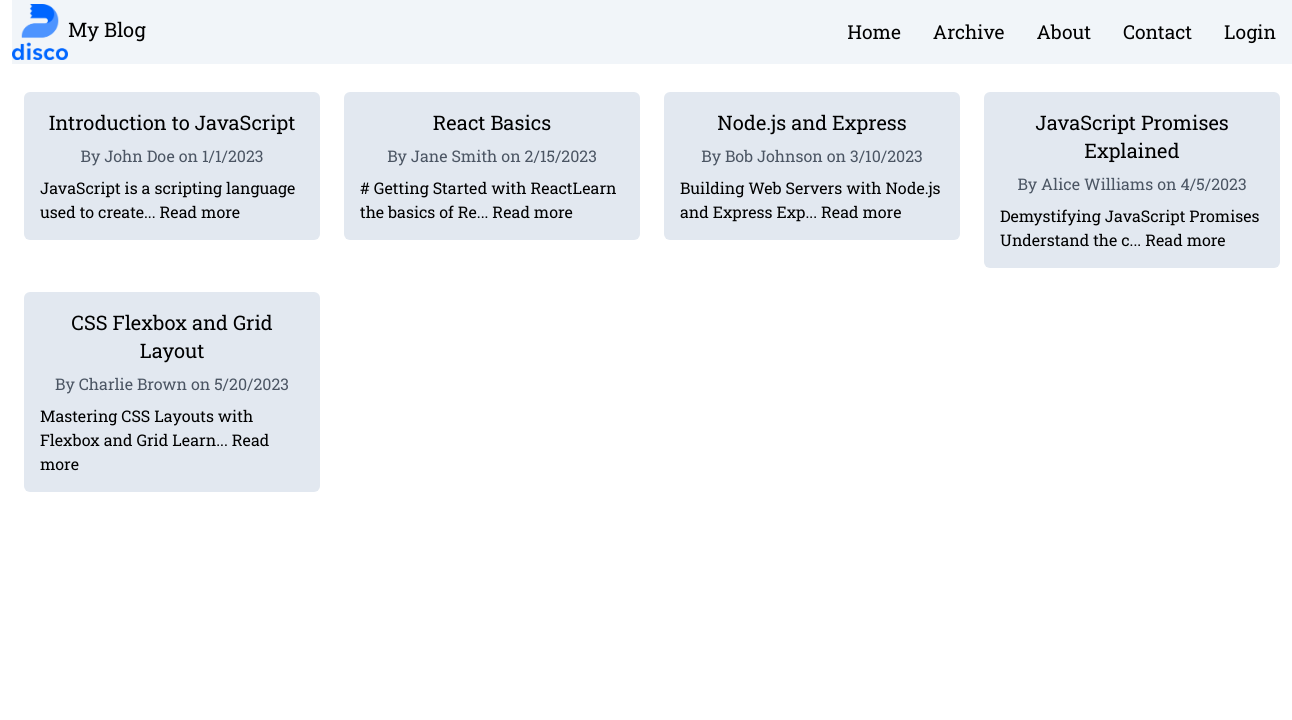
it: BlogDetails Component › loads and displays first blog details
Click the link with id "blogNumber-1" at (172, 180), box [24, 92, 320, 268]
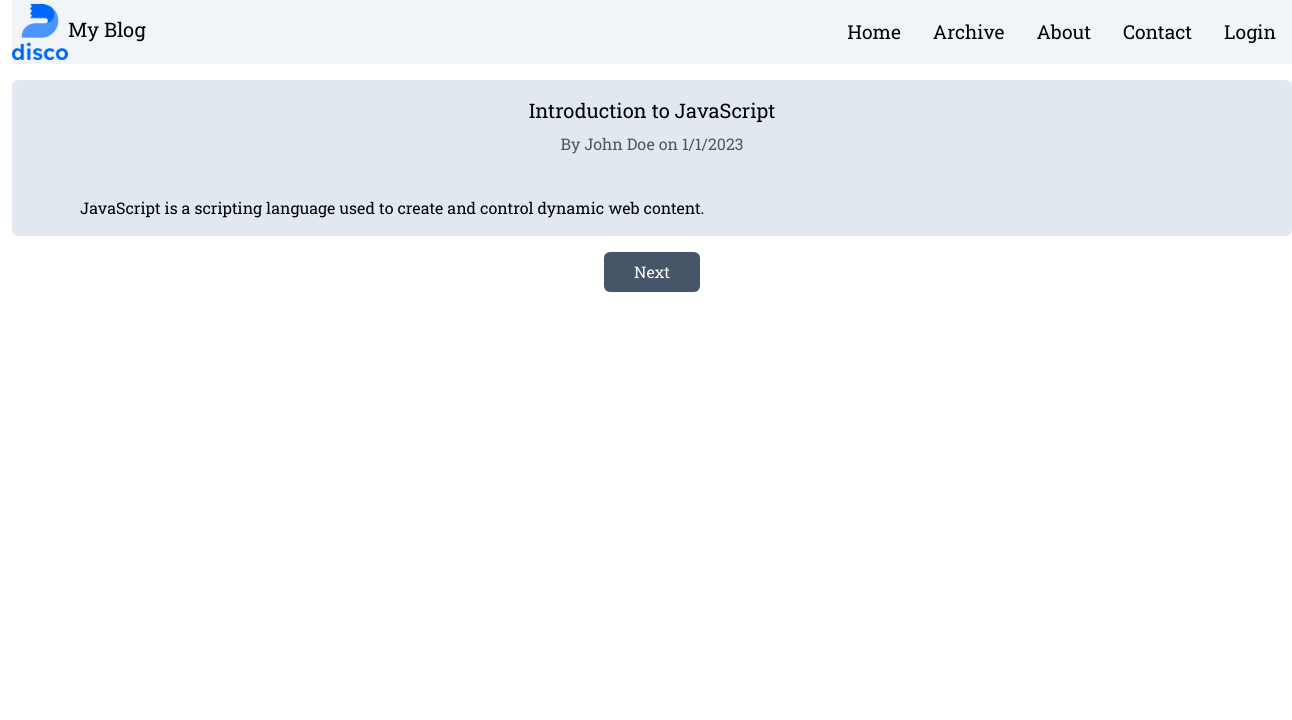
Expected: the heading "Introduction to JavaScript" is shown, [529, 97, 775, 123]
Expected: the button "Next" is shown, [604, 252, 700, 292]
Expected: the element showing "By John Doe on 1/1/2023" is shown, [561, 133, 743, 154]
